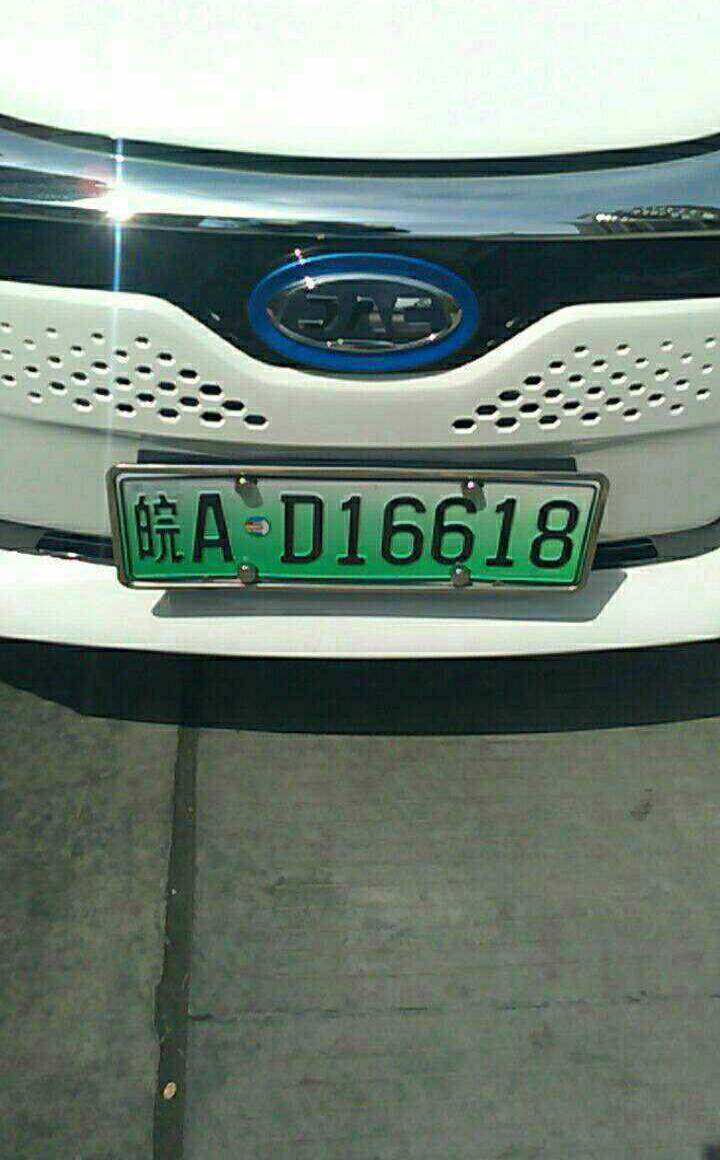car: (107, 466, 613, 609)
